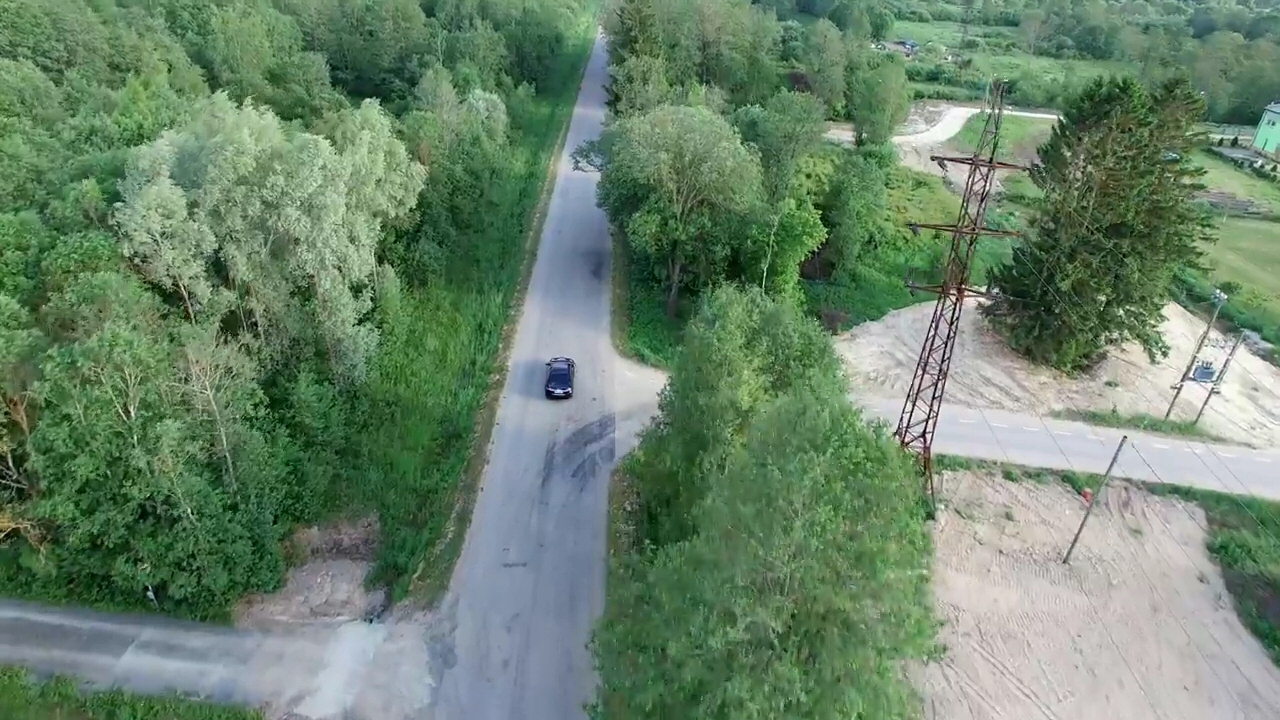araba: (544, 353, 577, 400)
